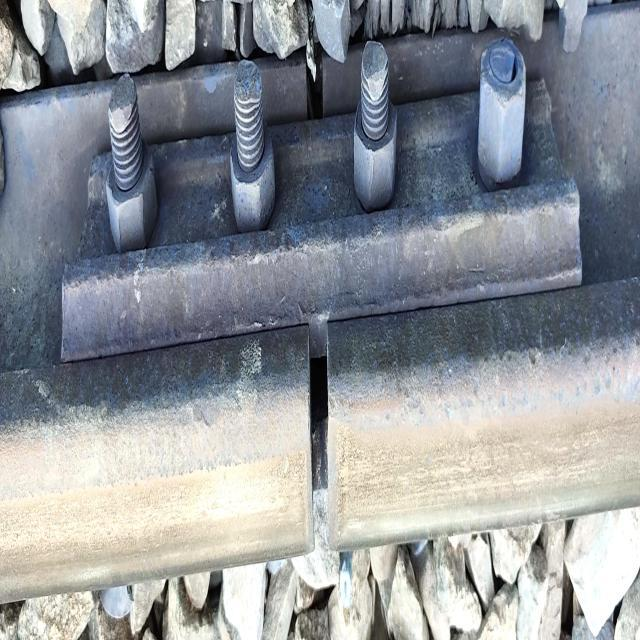Good Joint: (57, 33, 582, 351)
